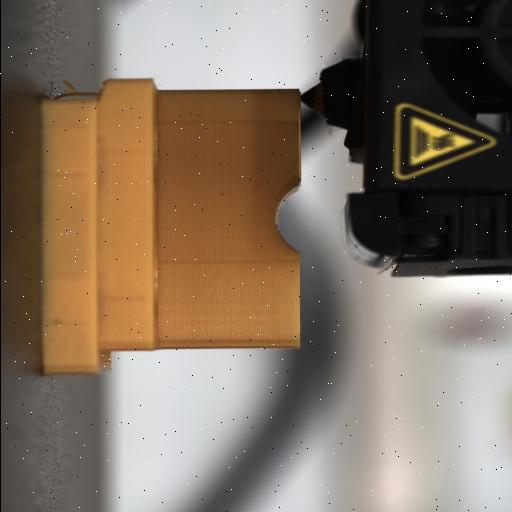layer_shift: (87, 78, 112, 376)
